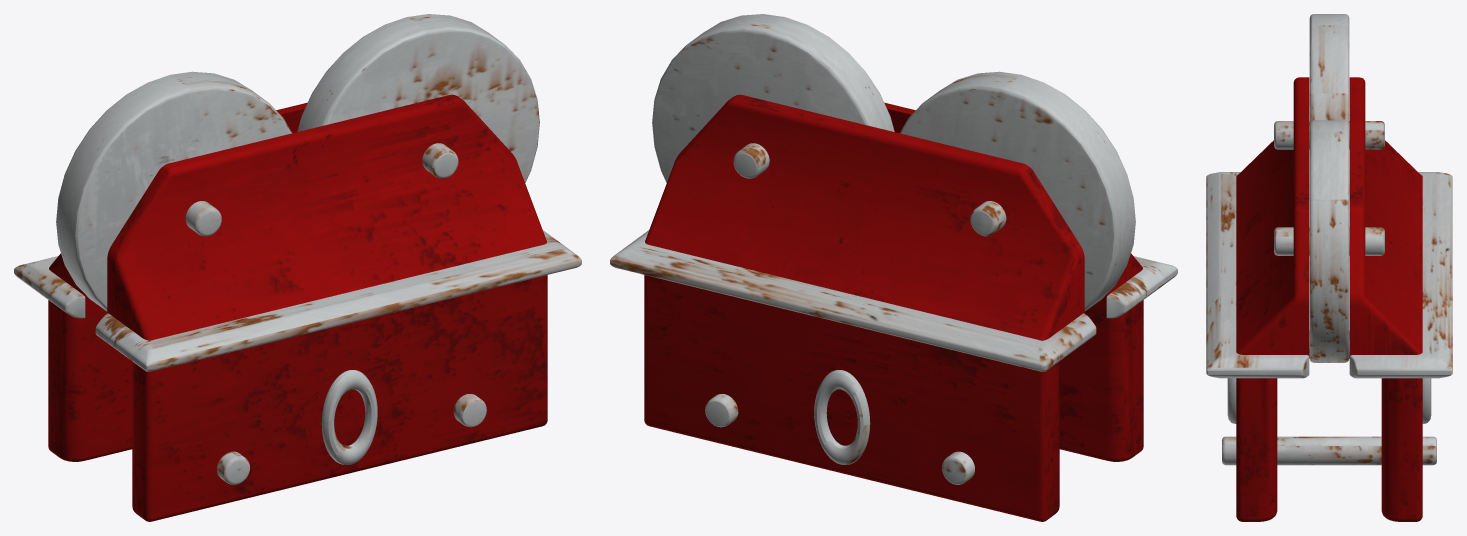
File: зиплайн часть 1.fbx
3 views of the same model, side by side, from view 1: azimuth 30°, elevation 25°; view 2: azimuth 150°, elevation 25°; view 3: azimuth 270°, elevation 25° (orthographic). The views are drawn at different scales.
Visible parts, largest first — view 1: Cube.001; view 2: Cube.001; view 3: Cube.001.
Part boxes in pixels (bbox=[...]): Cube.001: bbox=[14, 14, 581, 521]; Cube.001: bbox=[610, 14, 1177, 521]; Cube.001: bbox=[1206, 14, 1452, 521].
Size of the model in its own units: 80.12 by 63.58 by 39.96.
Materials: 2 (2 with a texture image).
